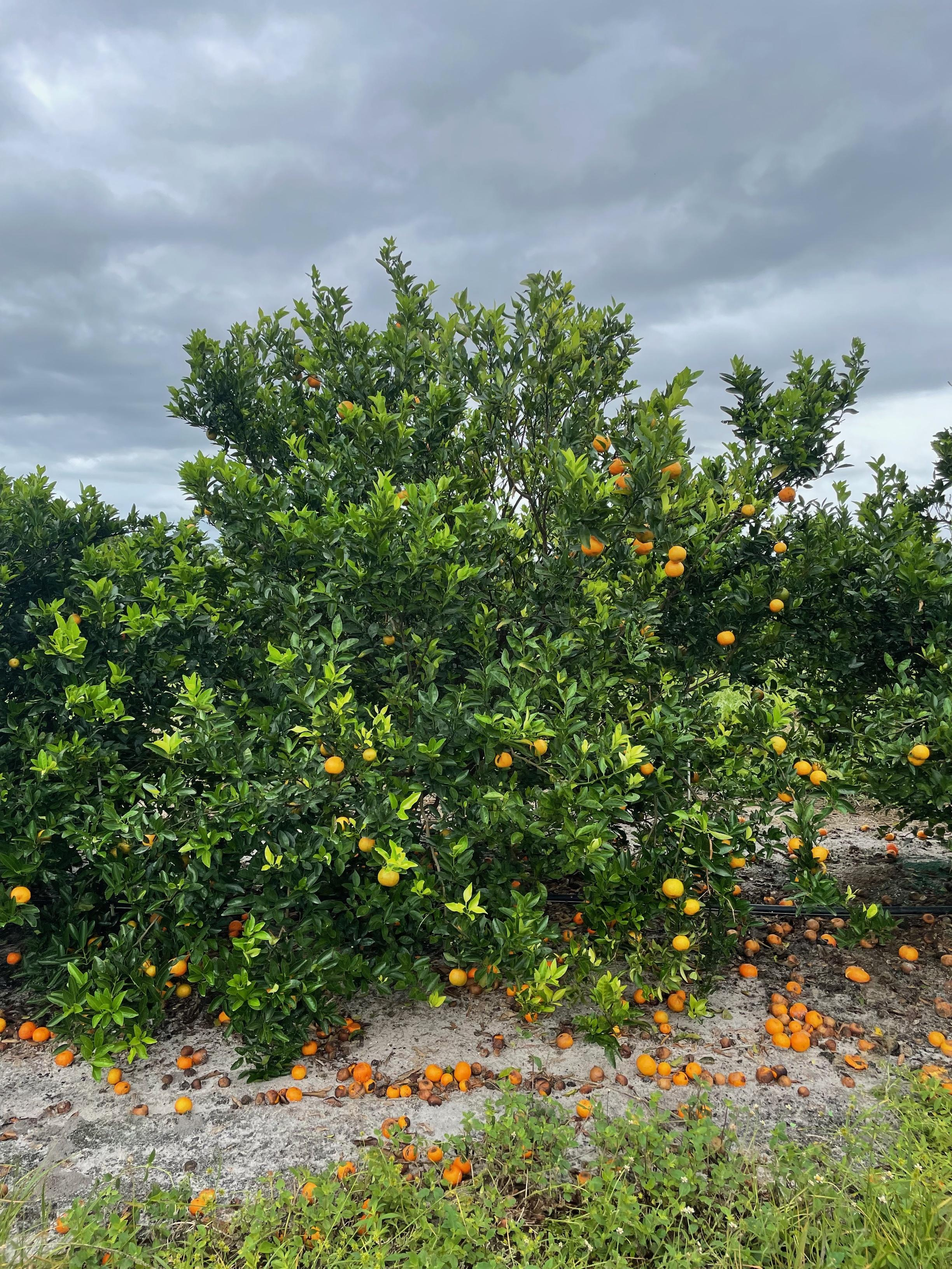fruit_on_ground: (579, 532, 606, 557), (660, 876, 686, 901), (659, 457, 685, 481), (334, 397, 359, 421), (588, 431, 614, 454), (610, 473, 635, 496), (7, 883, 32, 906), (375, 865, 400, 888), (322, 754, 347, 777), (330, 813, 356, 835), (635, 620, 659, 643), (630, 535, 655, 557), (528, 735, 551, 758), (491, 748, 514, 770), (115, 835, 139, 856), (167, 953, 189, 975), (766, 735, 788, 757), (632, 526, 656, 546), (317, 738, 339, 759), (394, 487, 416, 508), (283, 797, 304, 818), (154, 977, 175, 998), (224, 918, 245, 939), (607, 456, 628, 477), (356, 833, 378, 853), (663, 560, 685, 580), (466, 963, 489, 982), (406, 389, 427, 409), (140, 829, 161, 849), (359, 744, 380, 764), (738, 500, 758, 521), (448, 967, 468, 988), (777, 484, 798, 504), (670, 933, 691, 953), (910, 742, 931, 762), (715, 628, 737, 647), (681, 897, 701, 917), (905, 749, 927, 767), (610, 615, 630, 634), (809, 844, 829, 863), (83, 933, 104, 951), (667, 544, 688, 562), (391, 315, 410, 334), (35, 826, 54, 845), (174, 981, 193, 1000), (136, 956, 155, 975), (174, 852, 194, 870), (808, 860, 828, 878), (637, 759, 657, 777), (105, 845, 125, 863), (767, 596, 786, 614), (809, 769, 828, 787), (793, 758, 812, 776), (643, 413, 663, 430), (776, 786, 796, 803), (625, 928, 643, 946), (772, 538, 790, 556), (728, 853, 747, 870), (305, 373, 324, 390), (66, 611, 84, 628), (788, 836, 806, 853), (380, 631, 397, 648), (686, 768, 703, 785), (632, 987, 649, 1004), (774, 586, 791, 603), (716, 836, 735, 851), (183, 521, 200, 537), (749, 687, 765, 703), (144, 964, 160, 980), (810, 759, 826, 775), (436, 824, 453, 839), (614, 799, 630, 814), (217, 1009, 233, 1024), (147, 911, 164, 925), (607, 1024, 622, 1039), (7, 655, 22, 670), (203, 427, 219, 441), (485, 962, 500, 976), (124, 918, 140, 931), (617, 998, 631, 1012), (857, 770, 871, 784), (605, 917, 619, 930), (509, 878, 523, 891), (585, 925, 598, 937), (203, 505, 215, 518), (289, 418, 299, 428)
fruit_on_tree: (353, 1212, 382, 1237), (187, 1195, 211, 1217), (52, 1211, 74, 1235), (299, 1180, 320, 1205), (335, 1160, 357, 1182), (303, 1223, 324, 1245), (352, 1061, 373, 1083), (441, 1165, 463, 1185), (634, 1054, 654, 1076), (846, 965, 870, 983), (381, 1116, 401, 1137), (54, 1047, 74, 1067), (17, 1020, 37, 1040), (792, 1031, 812, 1051), (573, 1168, 594, 1187), (926, 1028, 947, 1047), (423, 1061, 444, 1080), (31, 1024, 52, 1043), (785, 1018, 807, 1036), (767, 1001, 789, 1019), (452, 1155, 472, 1174), (4, 948, 24, 967), (666, 992, 685, 1012), (282, 1084, 302, 1103), (763, 1016, 783, 1035), (851, 1052, 872, 1070), (856, 933, 877, 951), (425, 1144, 444, 1163), (684, 1060, 703, 1079), (674, 1102, 694, 1120), (788, 1000, 808, 1018), (804, 1009, 824, 1027), (198, 1187, 219, 1204), (898, 944, 919, 961), (846, 1021, 868, 1037), (555, 1031, 574, 1049), (105, 1067, 124, 1085), (348, 1080, 367, 1098), (772, 1030, 791, 1048), (454, 1061, 472, 1080), (576, 1099, 594, 1118), (727, 1070, 746, 1088), (174, 1095, 193, 1113), (755, 1065, 775, 1082), (401, 1144, 419, 1162), (694, 1103, 712, 1121), (588, 1064, 606, 1082), (692, 879, 711, 896), (517, 1143, 536, 1160), (742, 937, 761, 954), (739, 961, 758, 978), (783, 979, 803, 995), (112, 1081, 133, 1096), (695, 1072, 713, 1089), (301, 1039, 319, 1056), (289, 1063, 307, 1080), (843, 1051, 863, 1066), (671, 1072, 688, 1089), (936, 1037, 952, 1055), (334, 1066, 352, 1082), (658, 1058, 674, 1076), (175, 1054, 193, 1070), (768, 991, 787, 1006), (819, 932, 838, 947), (508, 1069, 524, 1086), (467, 982, 484, 998), (397, 1081, 413, 1098), (654, 1019, 672, 1034), (856, 1036, 874, 1051), (129, 1103, 149, 1116), (338, 1015, 354, 1031), (656, 1046, 672, 1062), (822, 1014, 838, 1030), (536, 1080, 552, 1096), (264, 1088, 280, 1104), (192, 1048, 208, 1064), (656, 1075, 672, 1091), (517, 982, 534, 997), (652, 1009, 669, 1024), (840, 1074, 857, 1089), (711, 1071, 727, 1086), (385, 1083, 400, 1099), (347, 1019, 364, 1033), (920, 911, 937, 925), (177, 1042, 194, 1056), (418, 1078, 433, 1093), (804, 918, 819, 933), (718, 1034, 733, 1049), (334, 1083, 349, 1098), (618, 1045, 634, 1059), (822, 1037, 838, 1051), (523, 1010, 539, 1024), (397, 1113, 411, 1129), (938, 951, 952, 967), (829, 916, 846, 929), (768, 922, 785, 935), (764, 934, 781, 947), (796, 1083, 811, 1097), (613, 1071, 628, 1085), (775, 1063, 790, 1077), (439, 1071, 454, 1085), (724, 926, 740, 939), (777, 1074, 793, 1087), (777, 895, 794, 907), (777, 1011, 791, 1025), (674, 988, 687, 1003), (786, 953, 800, 966), (572, 911, 586, 924), (505, 984, 518, 998), (457, 1080, 471, 1093), (803, 928, 817, 941), (560, 928, 574, 941), (730, 883, 744, 896), (578, 1082, 592, 1095), (886, 841, 899, 855), (0, 1180, 10, 1198), (899, 962, 914, 974), (428, 1094, 443, 1106), (0, 1015, 10, 1033), (884, 848, 899, 860), (338, 1029, 351, 1042), (217, 1075, 230, 1088), (915, 828, 928, 841), (471, 1060, 483, 1074), (883, 830, 897, 842), (190, 1078, 202, 1091), (492, 1032, 504, 1044), (763, 892, 776, 903), (160, 1073, 173, 1084), (734, 814, 746, 825), (539, 934, 550, 945), (817, 827, 829, 837), (859, 823, 870, 832)
